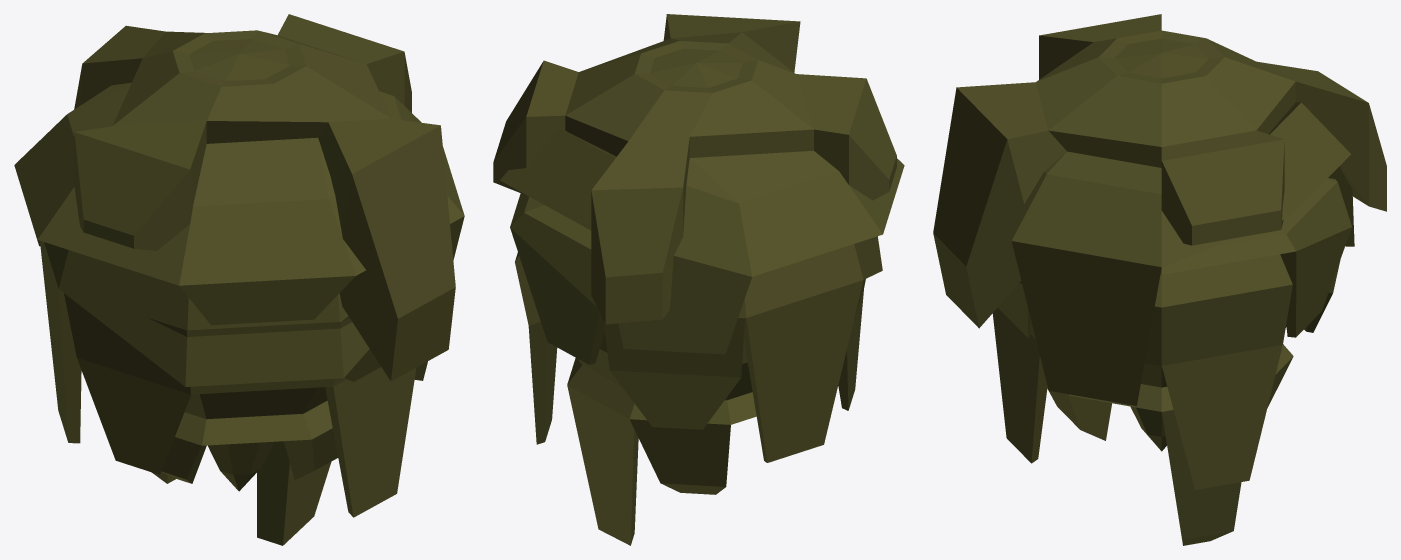
The model's file is Goop.fbx.
3 views of the same model, side by side, from view 1: azimuth 30°, elevation 25°; view 2: azimuth 150°, elevation 25°; view 3: azimuth 270°, elevation 25° (orthographic). The views are drawn at different scales.
Parts seen in each view (by area): view 1: pSphere1; view 2: pSphere1; view 3: pSphere1.
Part boxes in pixels (bbox=[...]): pSphere1: bbox=[14, 14, 464, 545]; pSphere1: bbox=[493, 14, 904, 545]; pSphere1: bbox=[933, 14, 1386, 545].
Size of the model in its own units: 2.58 by 3.14 by 2.76.
